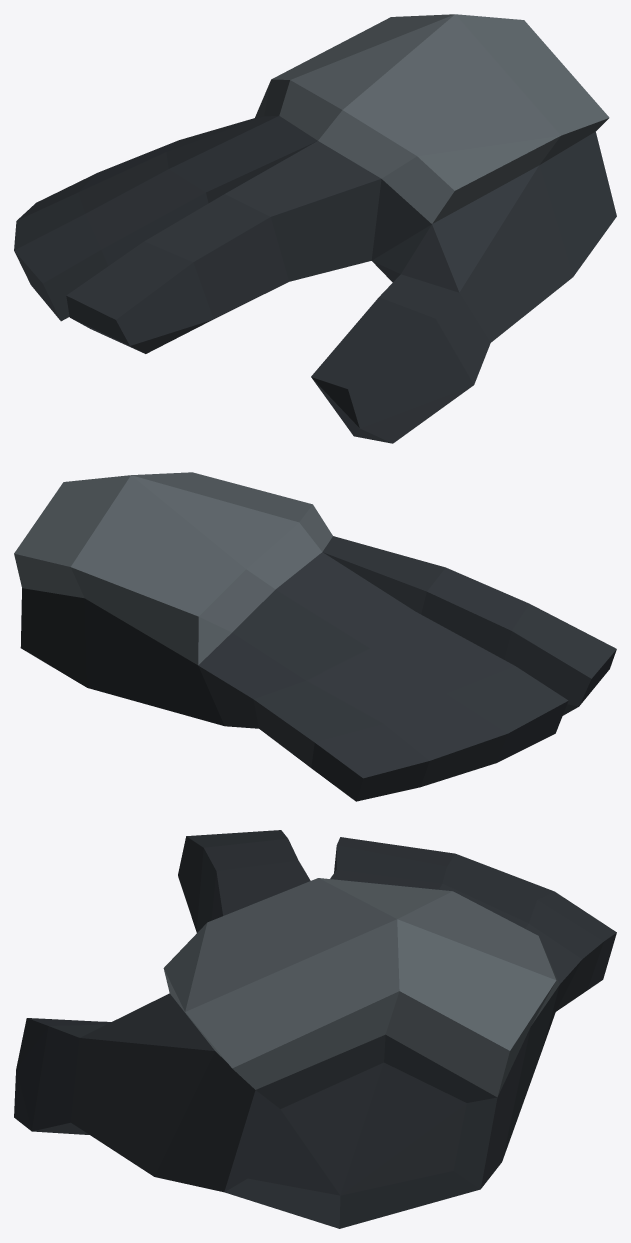
Rendered from Chr_HandRight_Female_11_Static.fbx.
3 views of the same model, one above another, from view 1: azimuth 30°, elevation 25°; view 2: azimuth 150°, elevation 25°; view 3: azimuth 270°, elevation 25° (orthographic). The views are drawn at different scales.
Visible parts, largest first — view 1: Chr_HandRight_Female_11_Static; view 2: Chr_HandRight_Female_11_Static; view 3: Chr_HandRight_Female_11_Static.
Boxes of the visible parts, x1,y1,x2,y2 form: Chr_HandRight_Female_11_Static: [14, 14, 616, 443]; Chr_HandRight_Female_11_Static: [14, 472, 616, 801]; Chr_HandRight_Female_11_Static: [14, 830, 616, 1228].
Size of the model in its own units: 0.237 by 0.1202 by 0.188.
